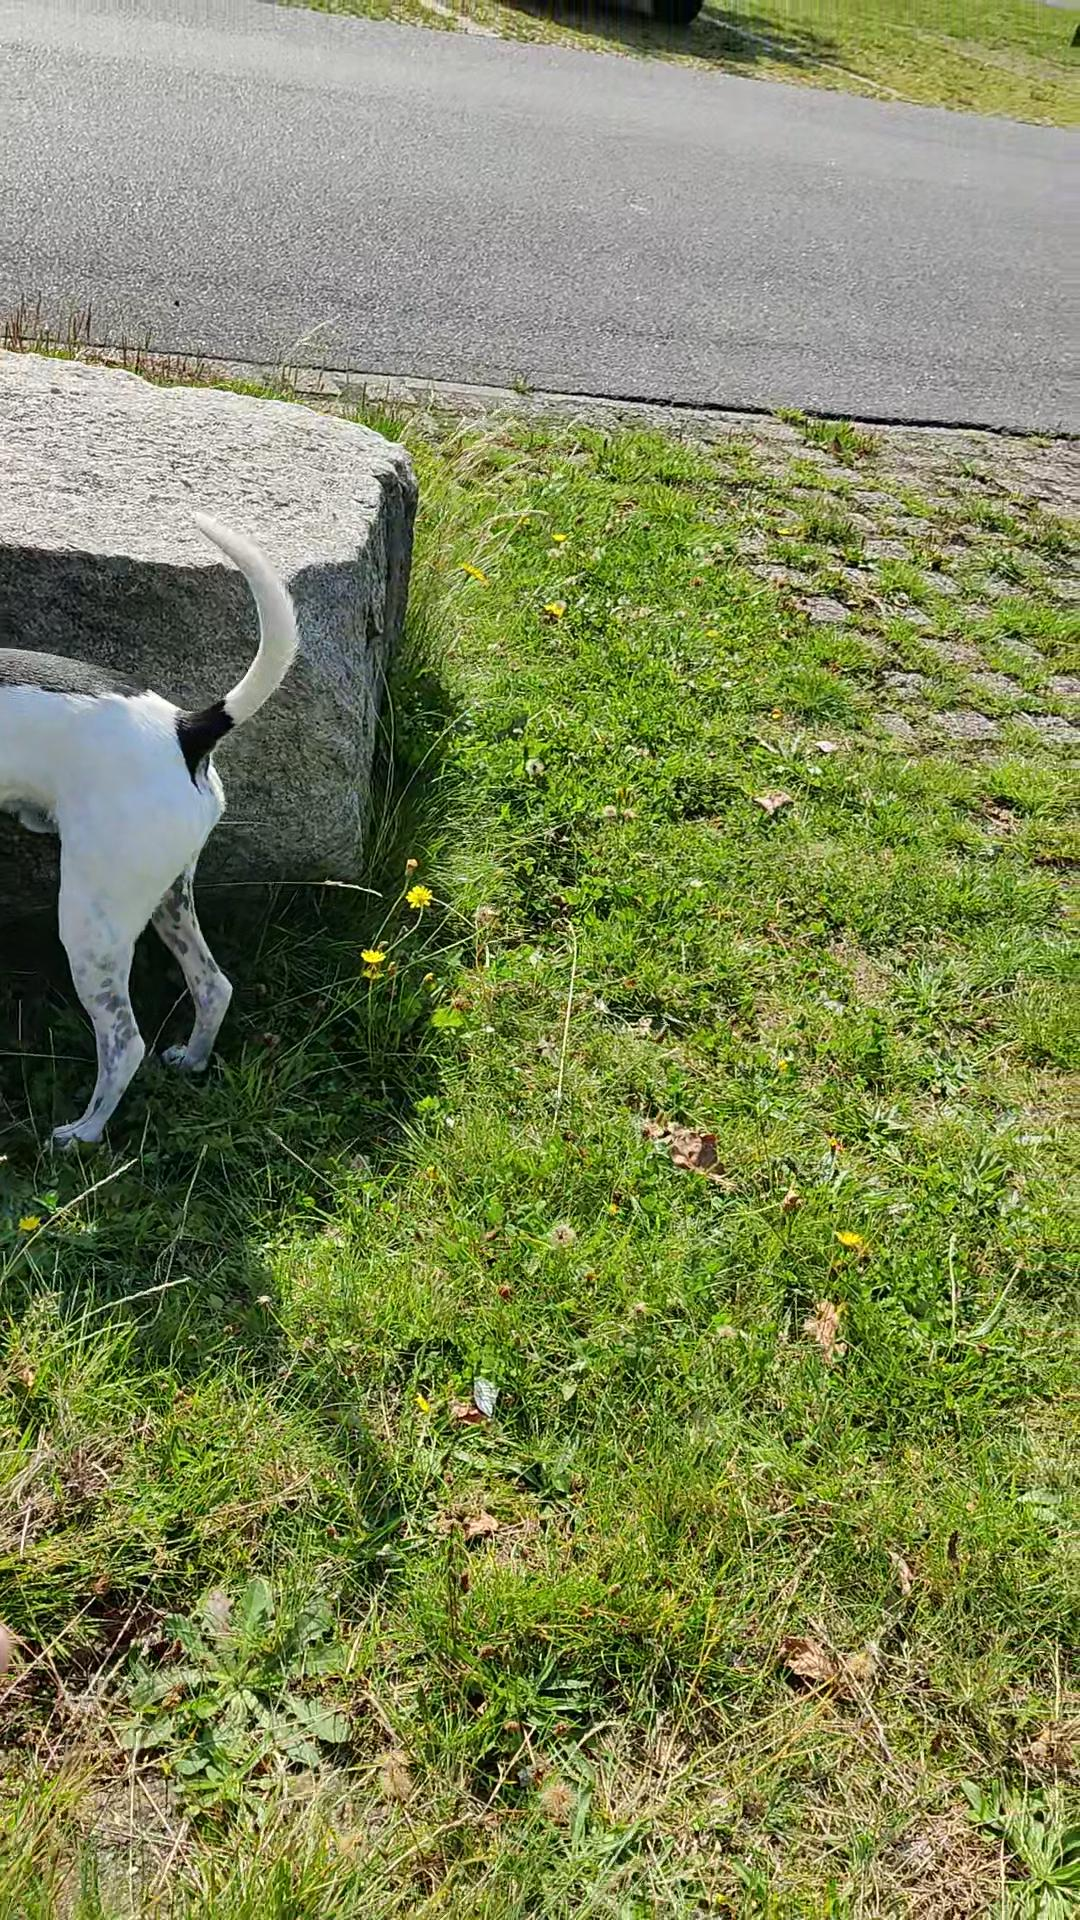Dog: (0, 504, 313, 1160)
